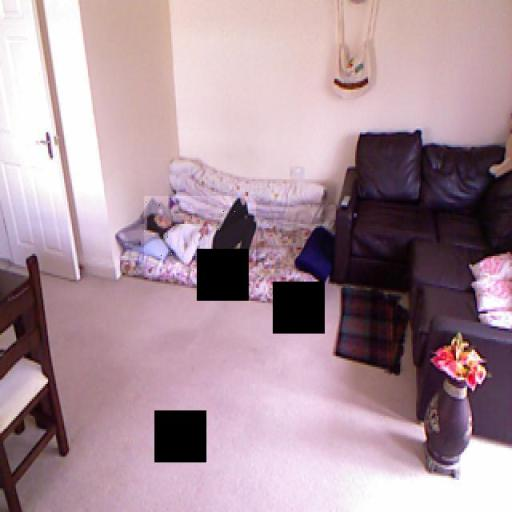Fall: (144, 196, 256, 275)
